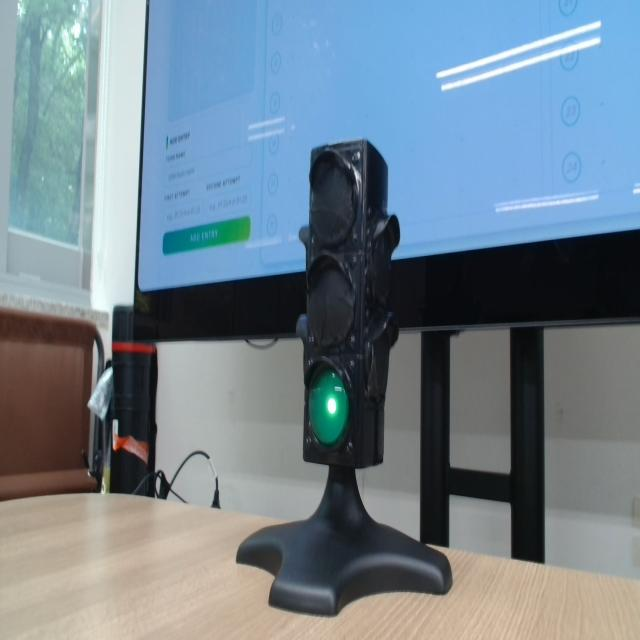green_light: (309, 368, 349, 447), (327, 398, 336, 414)
